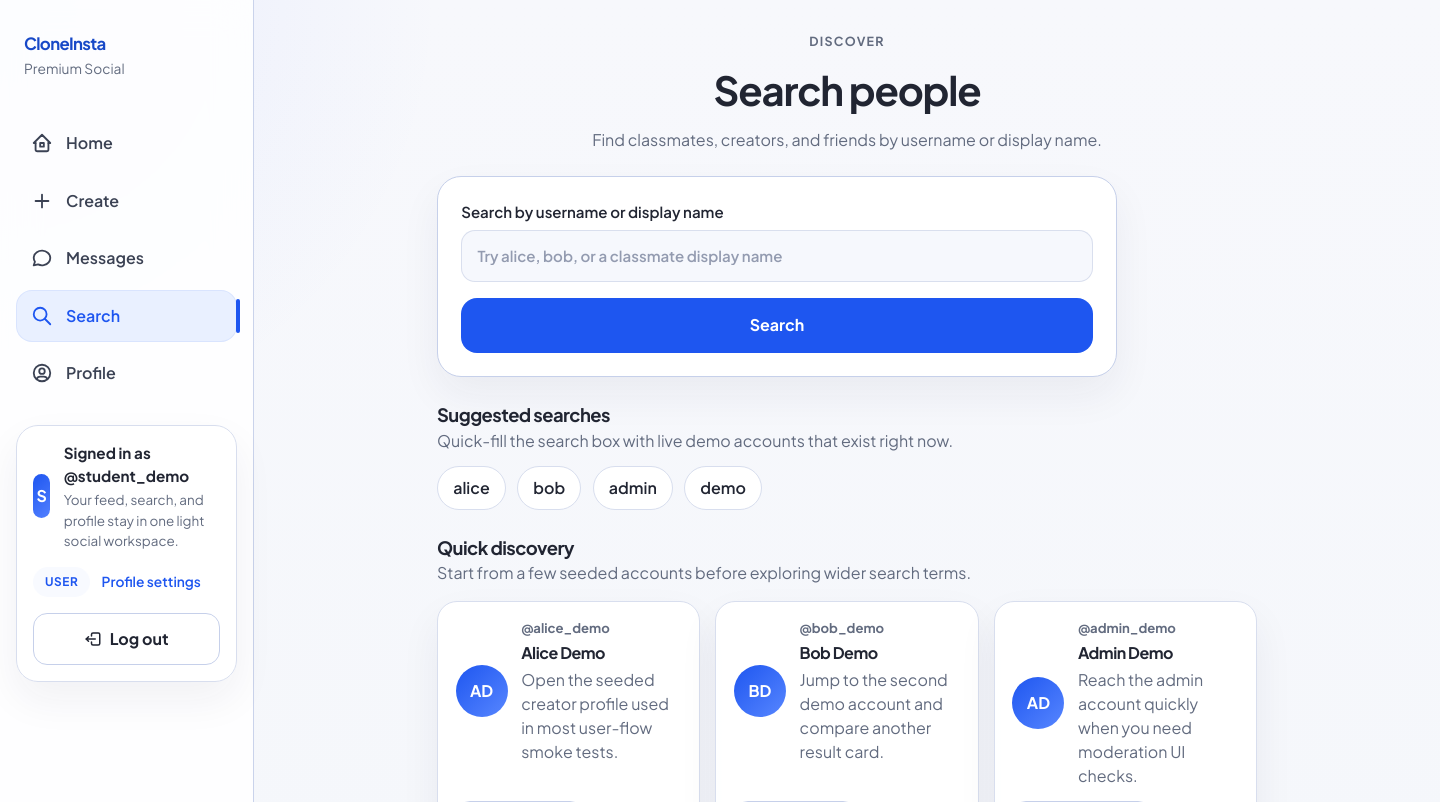
Test: Search UI › submits a real search query, renders paginated results, and loads the next page
Expected: the heading "Search people" is shown, 714,64 -> 980,114
In the search field labelled "Search by username or display name": (777, 256) 461,230 -> 1093,282, type "  ali  "
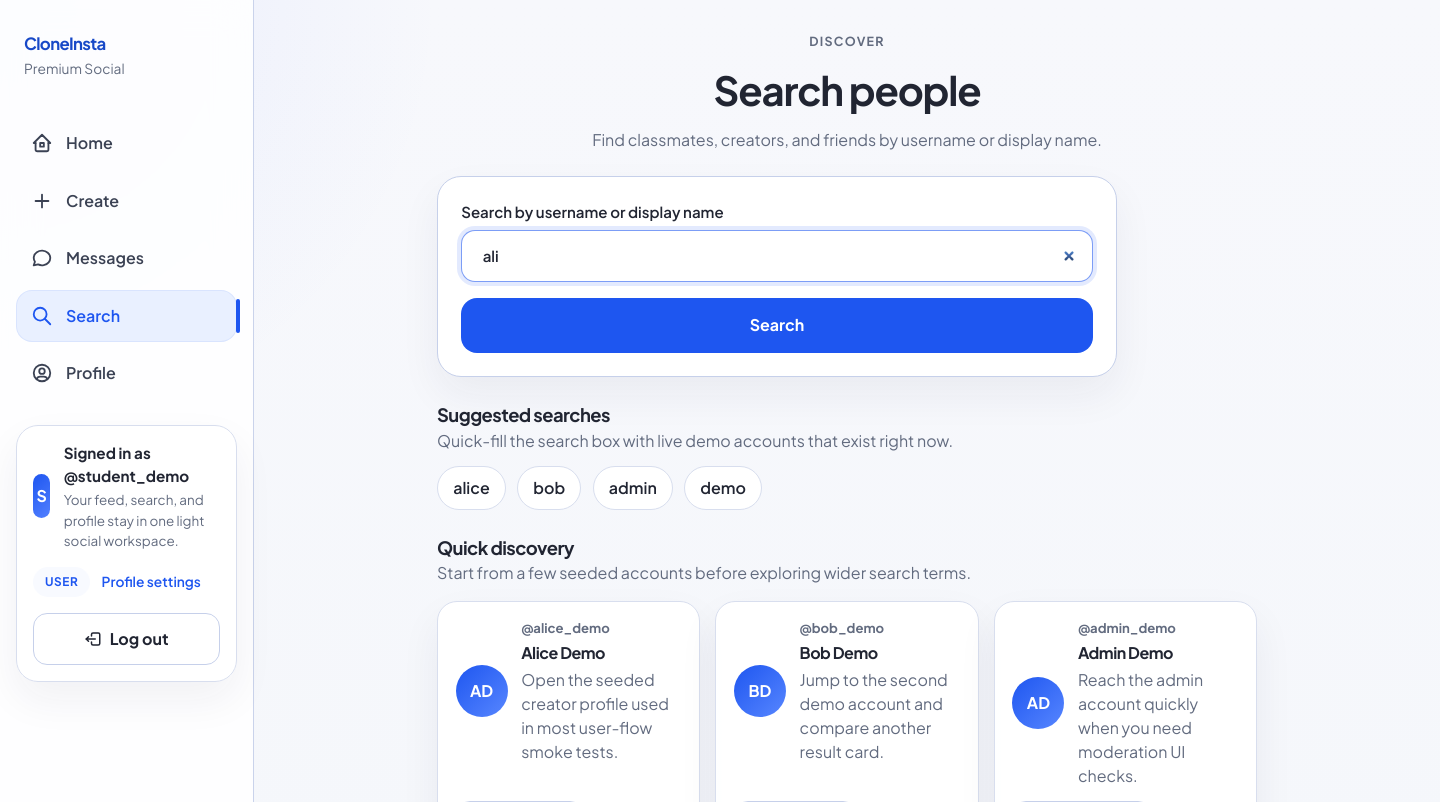
Click the button "Search": (777, 325) 461,298 -> 1093,353
(page scrolled)
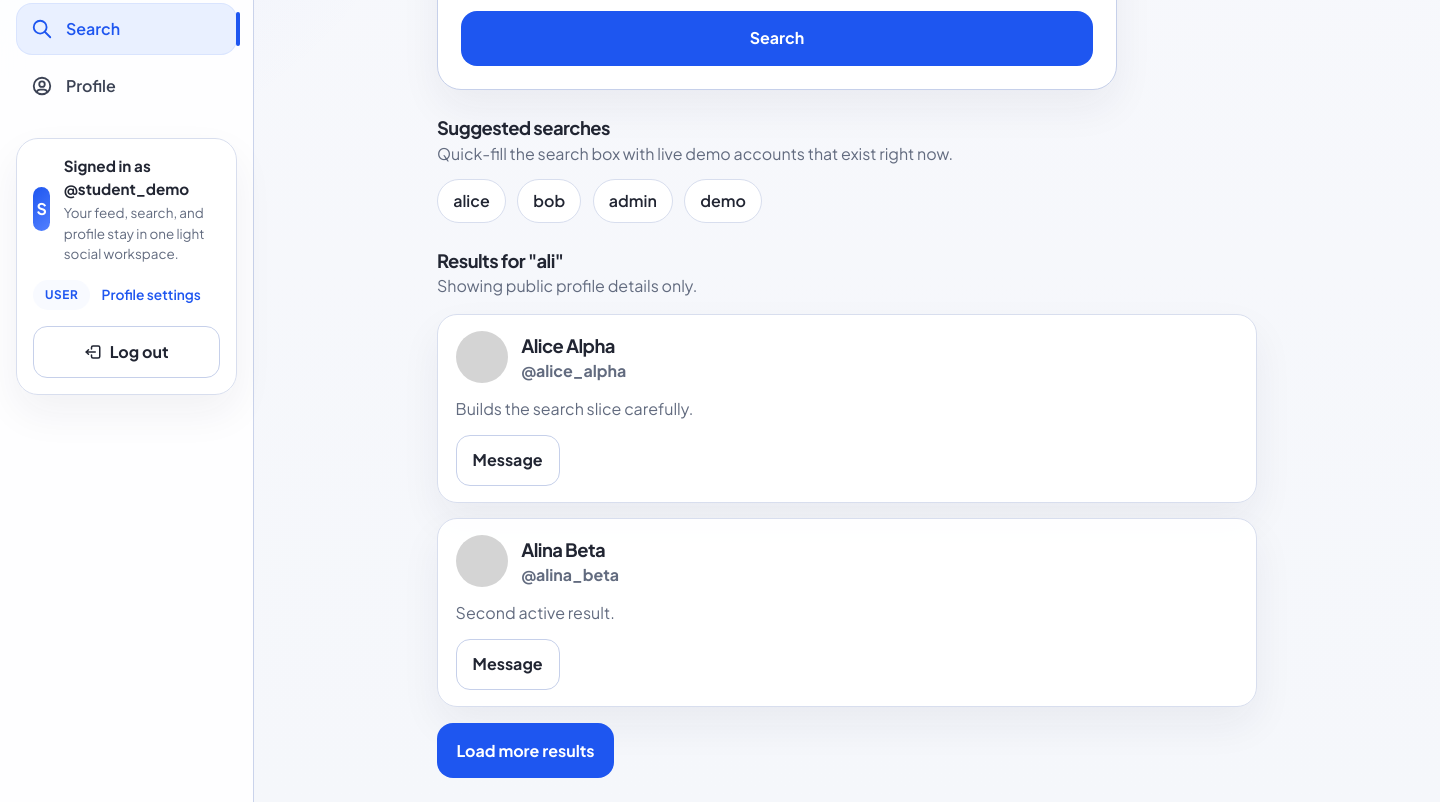
Result: the heading "Alice Alpha" is shown at 521,332 -> 626,359
Result: the heading "Alina Beta" is shown at 521,536 -> 619,563
Result: the button "Load more results" is shown
Click the button "Load more results": (526, 750) 437,723 -> 614,778
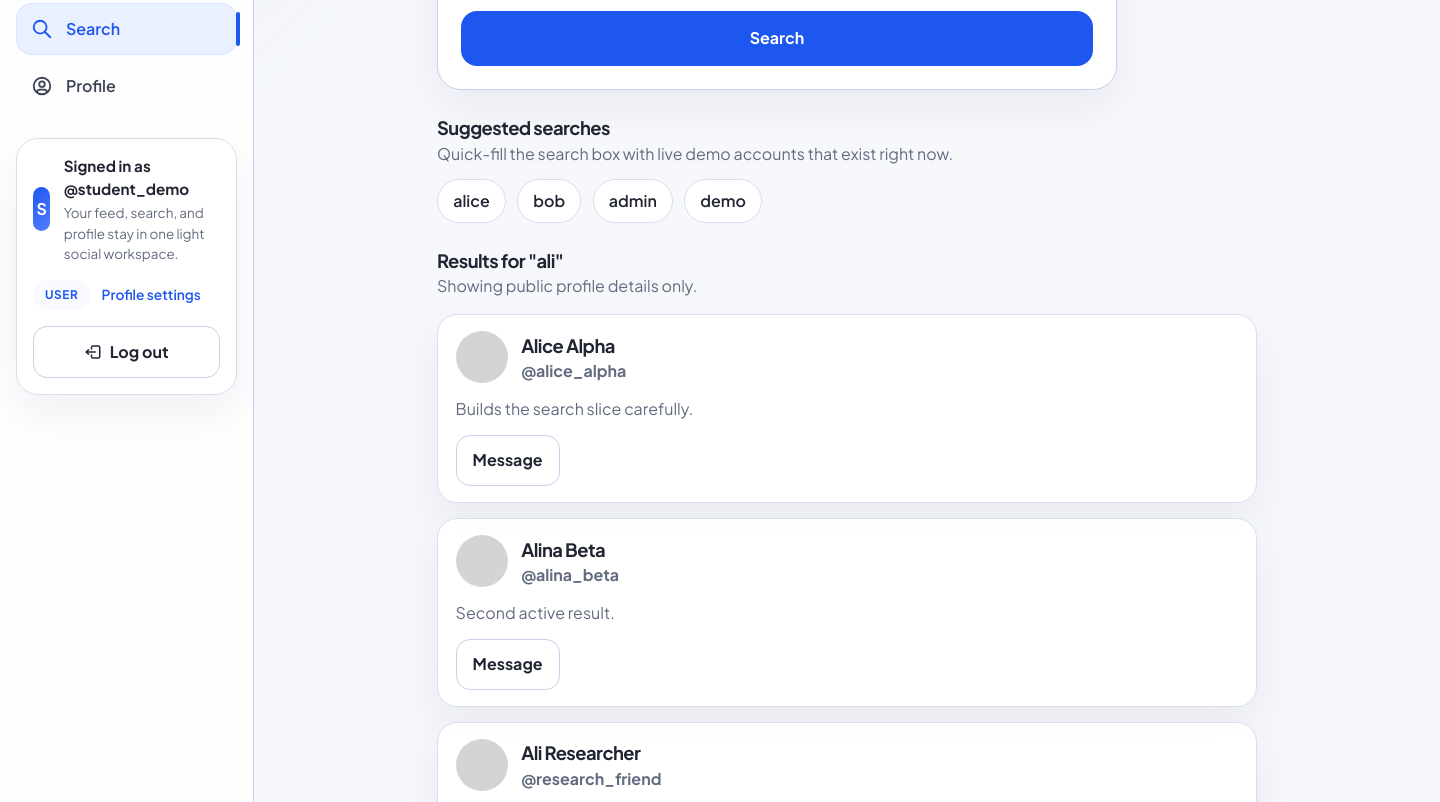
Result: the heading "Ali Researcher" is shown at 521,740 -> 661,767
Result: the button "Load more results" is gone
